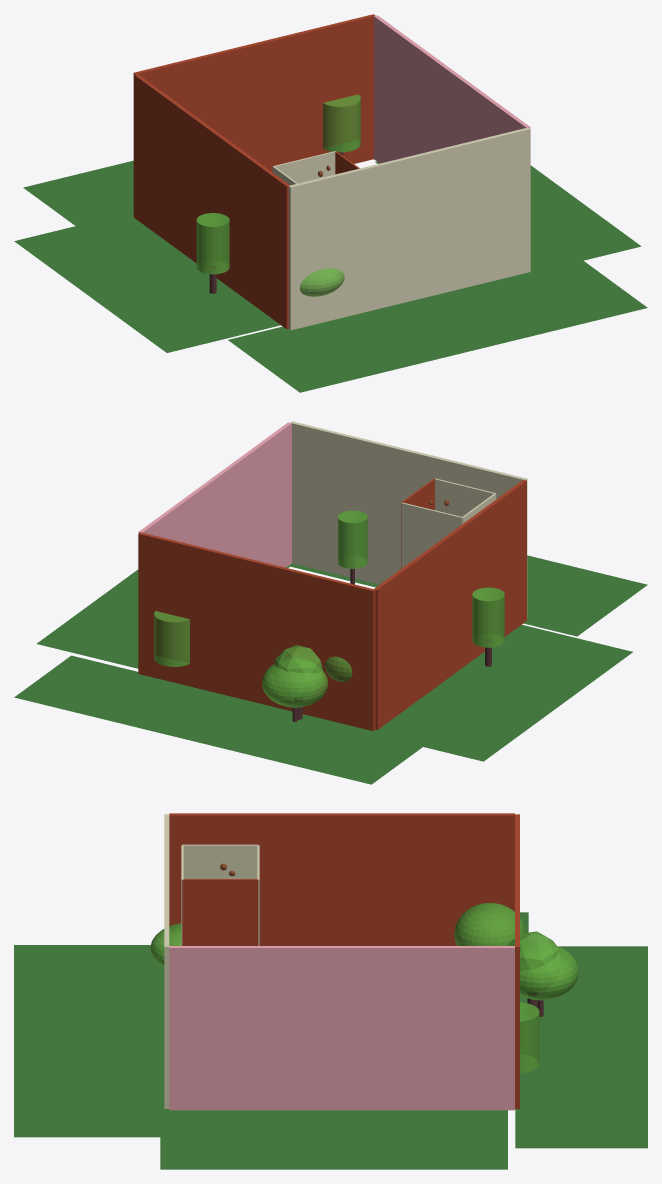
The model's file is ultra_varied_ef1c5eb1-c6d1-4cb6-badb-86ab286d05d6.obj.
The picture shows the model from 3 angles, top to bottom: view 1: azimuth 30°, elevation 25°; view 2: azimuth 150°, elevation 25°; view 3: azimuth 270°, elevation 25°; orthographic projection. The views are drawn at different scales.
Parts seen in each view (by area): view 1: ExteriorWall_South, Grass_Front, ExteriorWall_North, ExteriorWall_West, Grass_Left, ExteriorWall_East, Grass_Right, Grass_Back, Crown_0, Crown_3, NorthWall_Test_Room, Crown_2; view 2: ExteriorWall_North, ExteriorWall_West, Grass_Back, ExteriorWall_South, Grass_Left, ExteriorWall_East, Grass_Front, Grass_Right, Crown_7, NorthWall_Test_Room, Crown_1, Crown_3 (+5 smaller); view 3: ExteriorWall_East, ExteriorWall_West, Grass_Front, Grass_Back, Grass_Right, EastWall_Test_Room, Crown_7, WestWall_Test_Room, Crown_4, Crown_1, ExteriorWall_South, ExteriorWall_North (+2 smaller).
Boxes of the visible parts, x1,y1,x2,y2 form: ExteriorWall_South: [288, 127, 530, 330]; Grass_Front: [228, 255, 647, 392]; ExteriorWall_North: [133, 14, 375, 215]; ExteriorWall_West: [134, 74, 289, 329]; Grass_Left: [14, 214, 280, 352]; ExteriorWall_East: [374, 15, 530, 163]; Grass_Right: [375, 161, 641, 265]; Grass_Back: [23, 160, 133, 230]; Crown_0: [323, 94, 360, 152]; Crown_3: [196, 213, 229, 274]; NorthWall_Test_Room: [273, 151, 335, 183]; Crown_2: [299, 268, 344, 296]; ExteriorWall_North: [138, 532, 375, 731]; ExteriorWall_West: [374, 479, 526, 729]; Grass_Back: [14, 655, 422, 784]; ExteriorWall_South: [290, 421, 527, 618]; Grass_Left: [367, 624, 632, 761]; ExteriorWall_East: [138, 422, 291, 567]; Grass_Front: [289, 555, 647, 636]; Grass_Right: [36, 563, 293, 668]; Crown_7: [262, 659, 327, 707]; NorthWall_Test_Room: [401, 502, 462, 568]; Crown_1: [273, 645, 322, 698]; Crown_3: [472, 587, 504, 647]; ExteriorWall_East: [169, 946, 514, 1110]; ExteriorWall_West: [169, 813, 514, 945]; Grass_Front: [14, 945, 177, 1137]; Grass_Back: [515, 946, 647, 1148]; Grass_Right: [160, 1108, 507, 1169]; EastWall_Test_Room: [182, 879, 258, 945]; Crown_7: [520, 944, 578, 1000]; WestWall_Test_Room: [182, 844, 257, 878]; Crown_4: [454, 903, 525, 945]; Crown_1: [508, 931, 560, 992]; ExteriorWall_South: [164, 814, 169, 1108]; ExteriorWall_North: [515, 814, 519, 1108].
Bounding box in the file's own units: 38.17 × 11.46 × 39.71.
